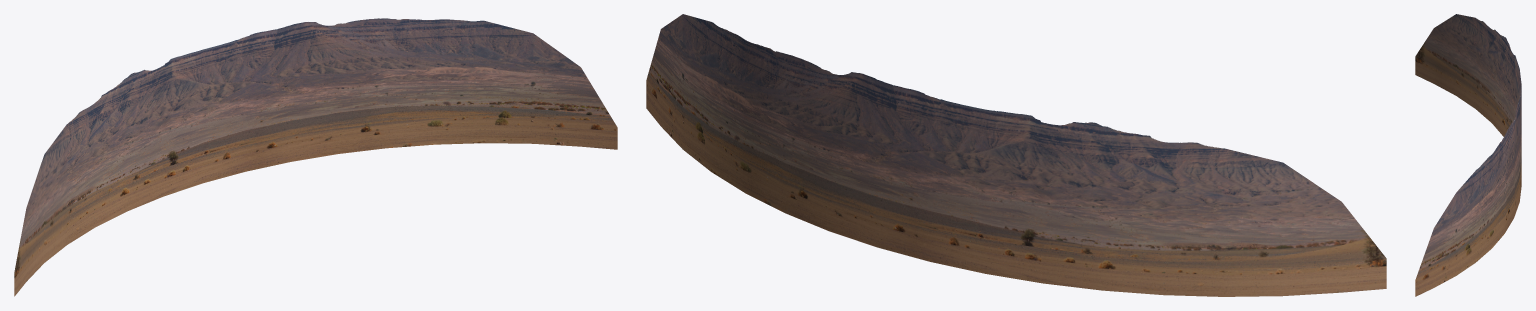
The model's file is Landscape.fbx.
3 views of the same model, side by side, from view 1: azimuth 30°, elevation 25°; view 2: azimuth 150°, elevation 25°; view 3: azimuth 270°, elevation 25° (orthographic). The views are drawn at different scales.
Visible parts, largest first — view 1: Landscape; view 2: Landscape; view 3: Landscape.
Part boxes in pixels (<box>): Landscape: <box>14,18,617,296</box>; Landscape: <box>646,14,1386,296</box>; Landscape: <box>1415,14,1521,296</box>.
Bounding box in the file's own units: 513 × 117 × 104.
